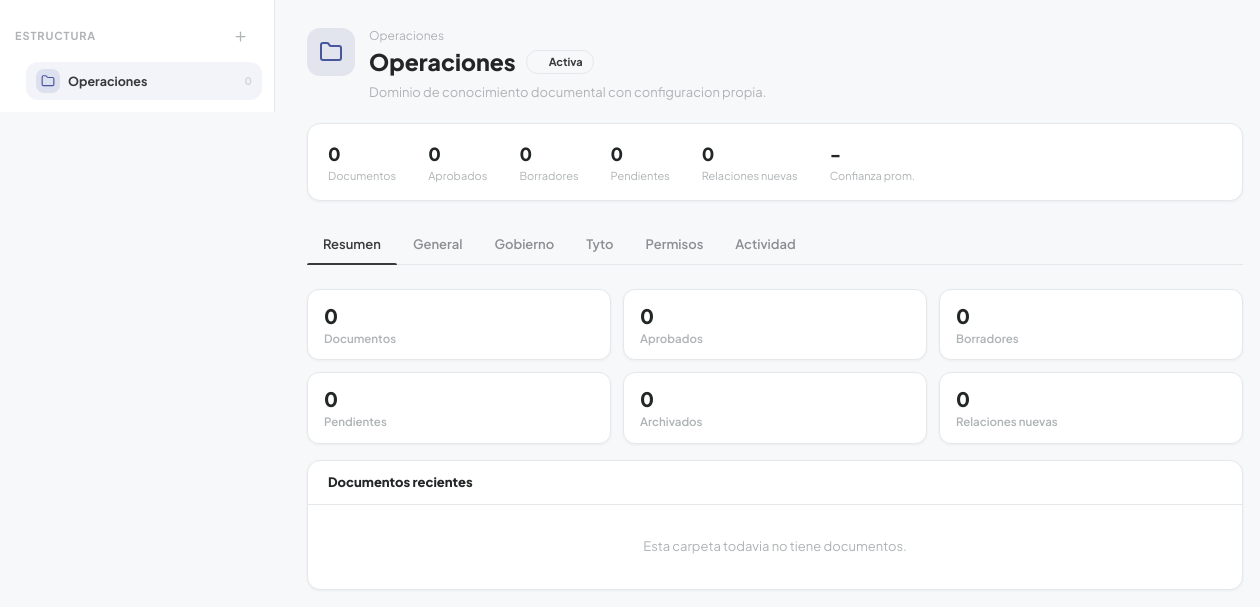
Test case: ActivityTab › muestra empty state real cuando no hay eventos
The width and height of the screenshot is (1260, 607).
Click the tab "Actividad" at (765, 245), box [719,225,812,264]
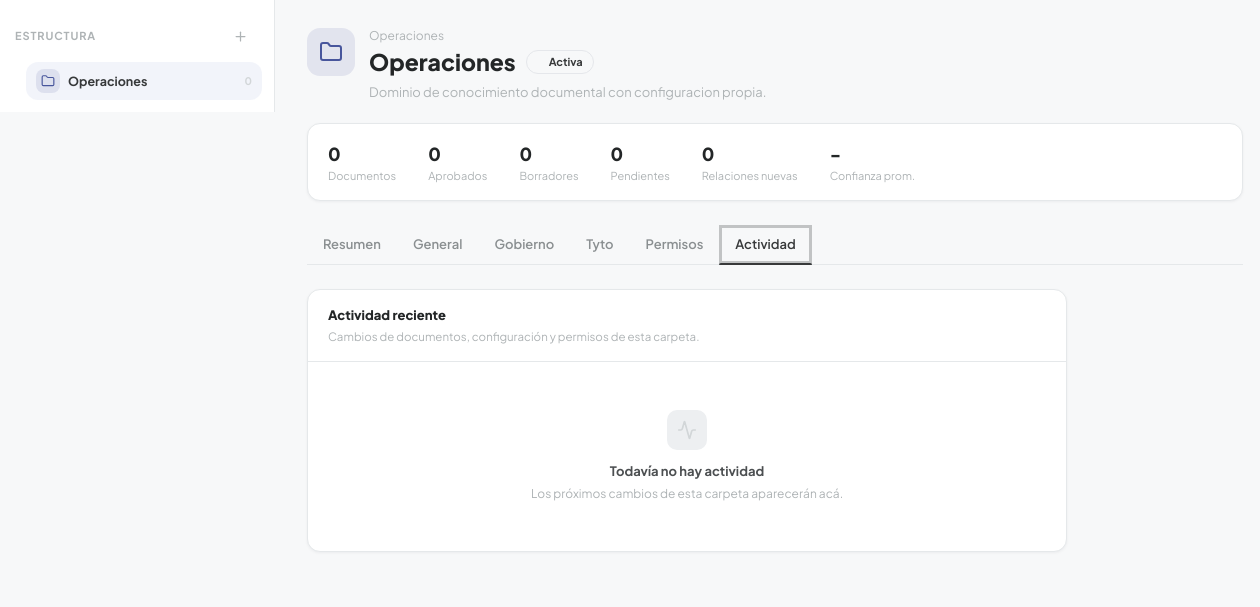
Now the text "Todavía no hay actividad" is shown, box [610,463,764,479]
